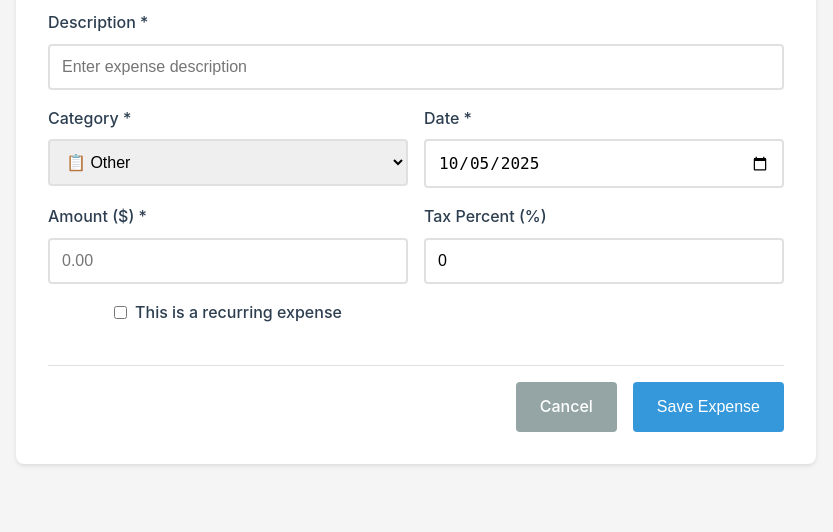
Test case: ExpenseForm Component › validates required fields
Click the button "Save Expense" at (708, 407), box top-left (633, 382), bottom-right (784, 432)
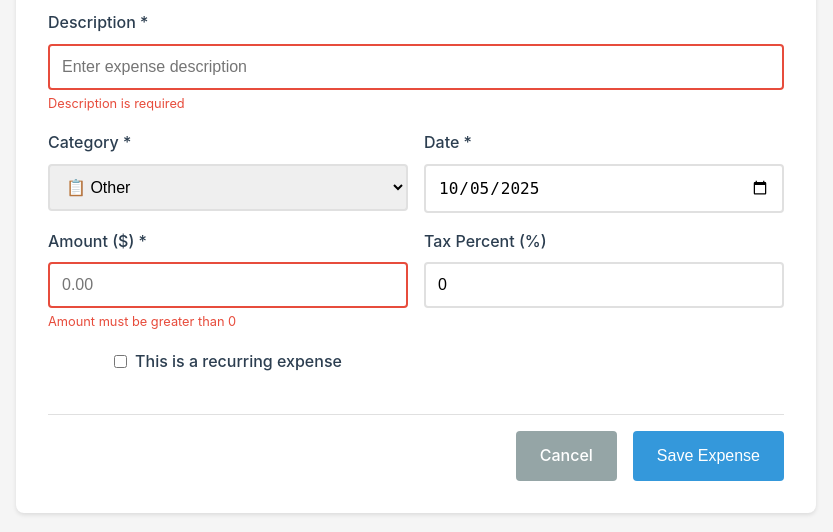
Now the text "Description is required" is shown, box top-left (48, 96), bottom-right (185, 111)
Now the text "Amount must be greater than 0" is shown, box top-left (48, 314), bottom-right (236, 329)
